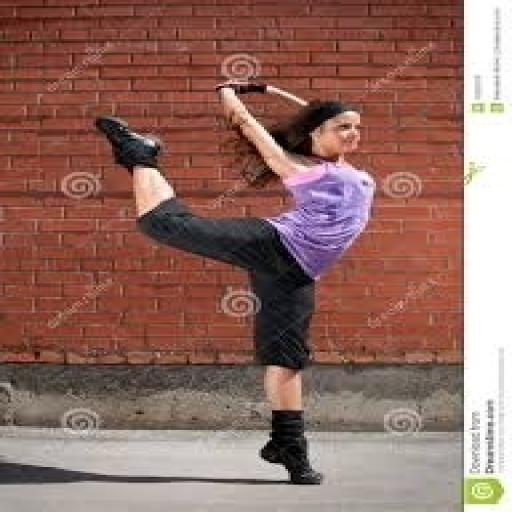dancing: (88, 74, 379, 487)
